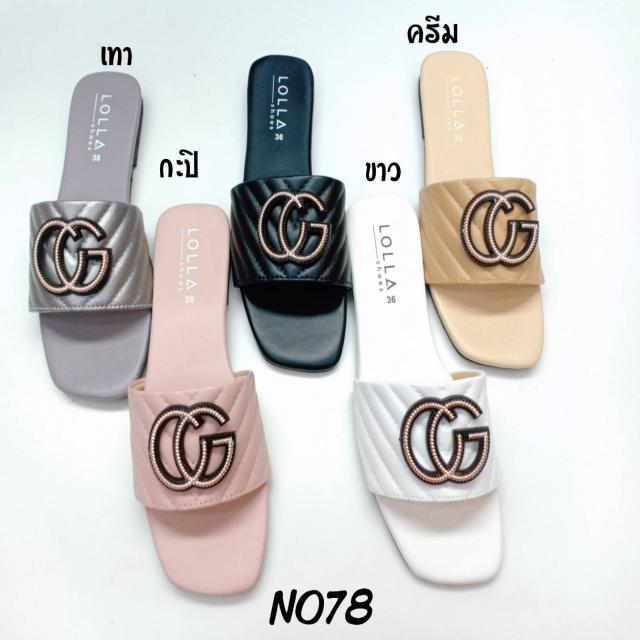black: (237, 53, 345, 368)
cream: (419, 52, 540, 374)
grey: (40, 76, 153, 398)
kapi: (135, 212, 266, 592)
white: (352, 204, 502, 580)
